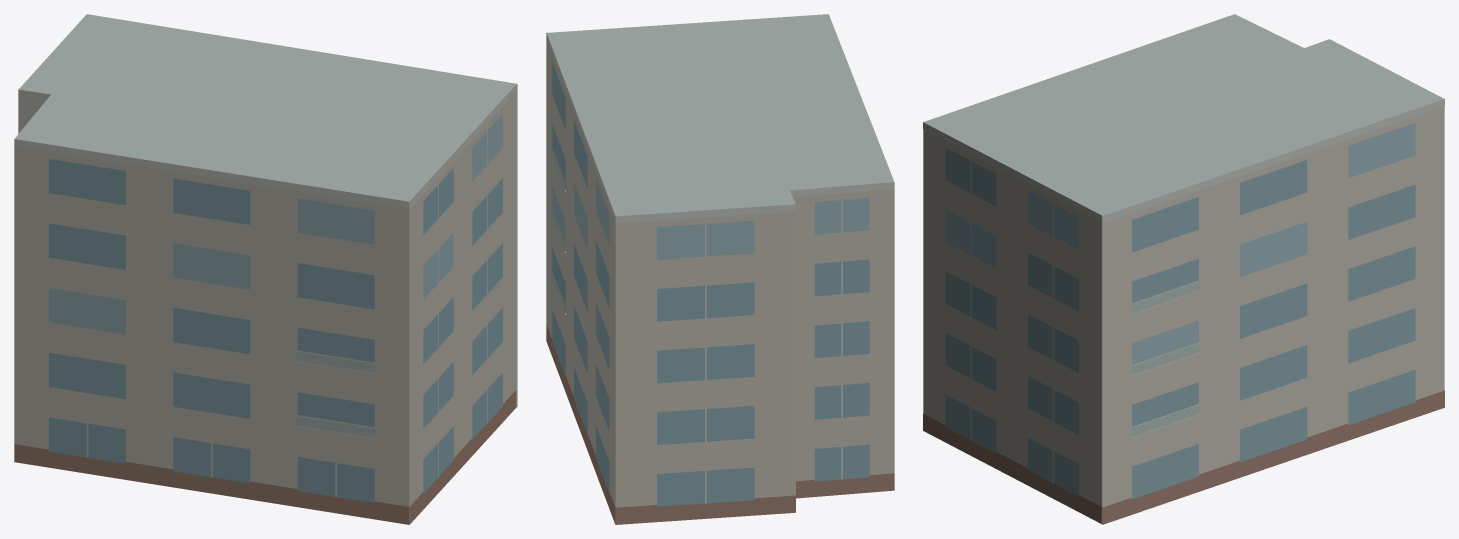
File: survey-upis-32906576.glb
3 views of the same model, side by side, from view 1: azimuth 30°, elevation 25°; view 2: azimuth 150°, elevation 25°; view 3: azimuth 270°, elevation 25° (orthographic). The views are drawn at different scales.
Parts seen in each view (by area): view 1: survey-upis-32906576.tmp; view 2: survey-upis-32906576.tmp; view 3: survey-upis-32906576.tmp.
Part boxes in pixels (box(x1,y1,x2,y2)): survey-upis-32906576.tmp: box(14, 14, 517, 524); survey-upis-32906576.tmp: box(546, 14, 894, 524); survey-upis-32906576.tmp: box(923, 14, 1444, 524).
Size of the model in its own units: 14.76 by 10.5 by 16.09.
